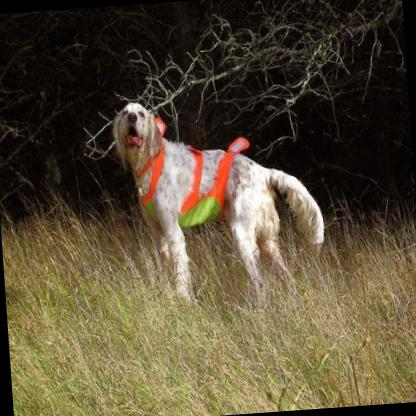English_setter: (109, 88, 328, 323)
